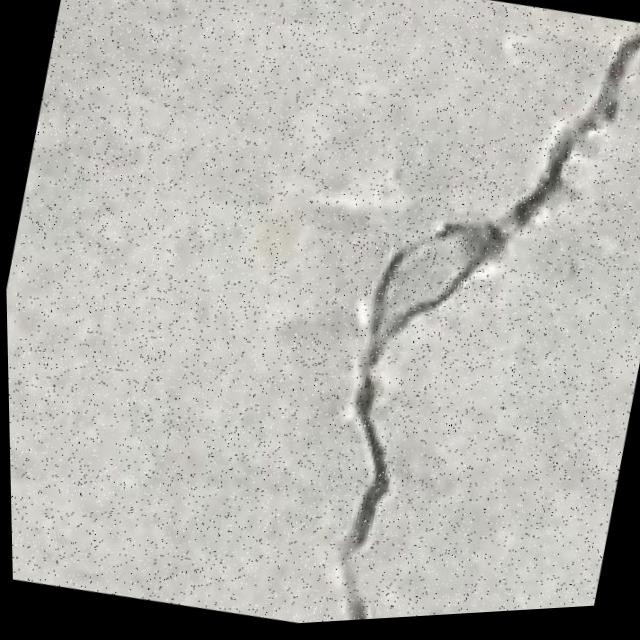Crack: (270, 0, 640, 627)
